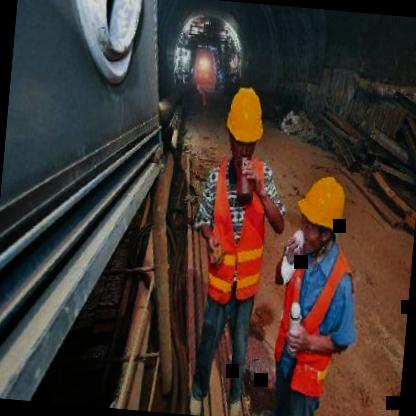helmet: (292, 169, 350, 255), (221, 78, 270, 168)
